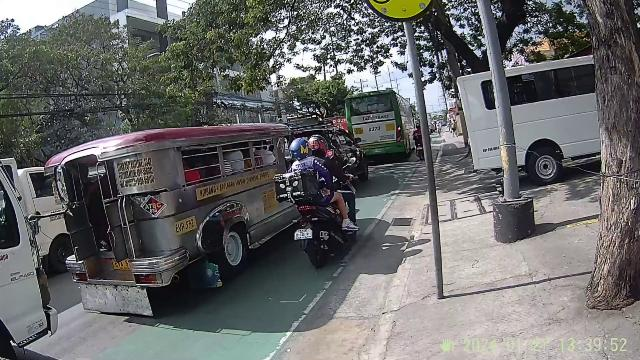utility_post: (476, 5, 532, 244)
